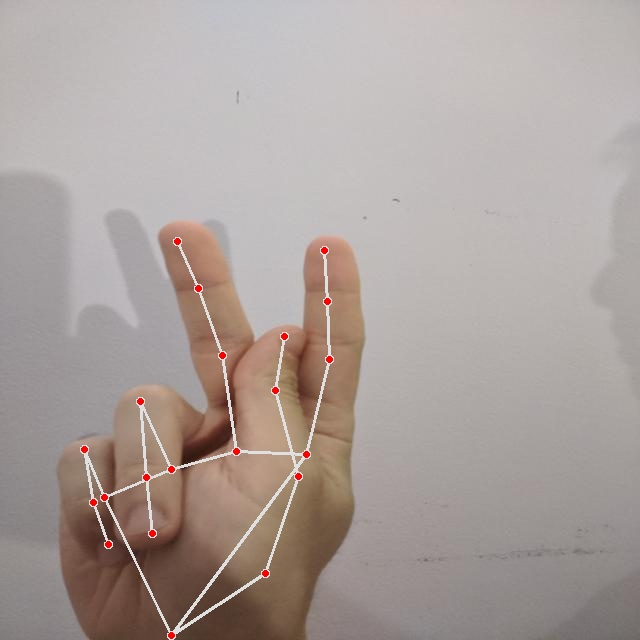K: (45, 211, 378, 640)
